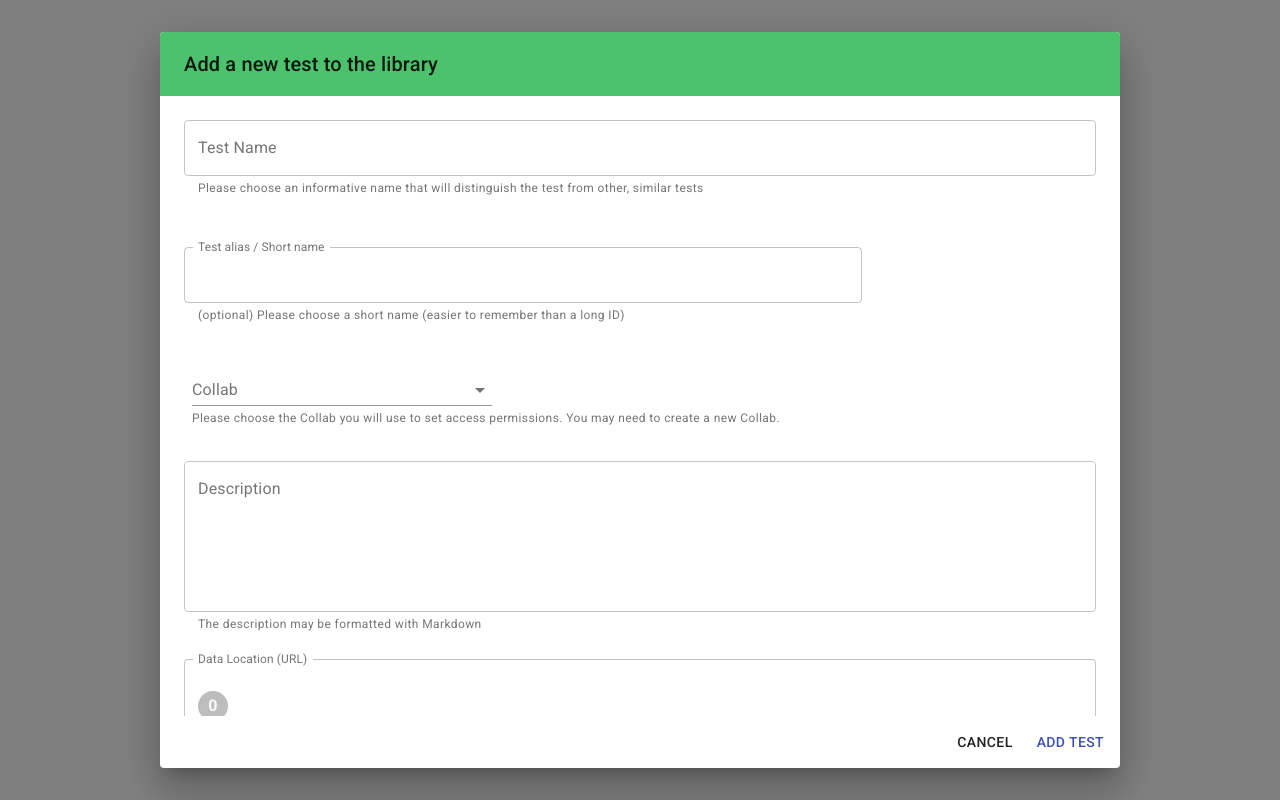
Test: TestAddForm › handleSubmit › shows error when alias is not unique
The image size is (1280, 800).
In the field named "name" next to "Test Name": (640, 148) top-left (184, 120), bottom-right (1096, 176), type "Test"
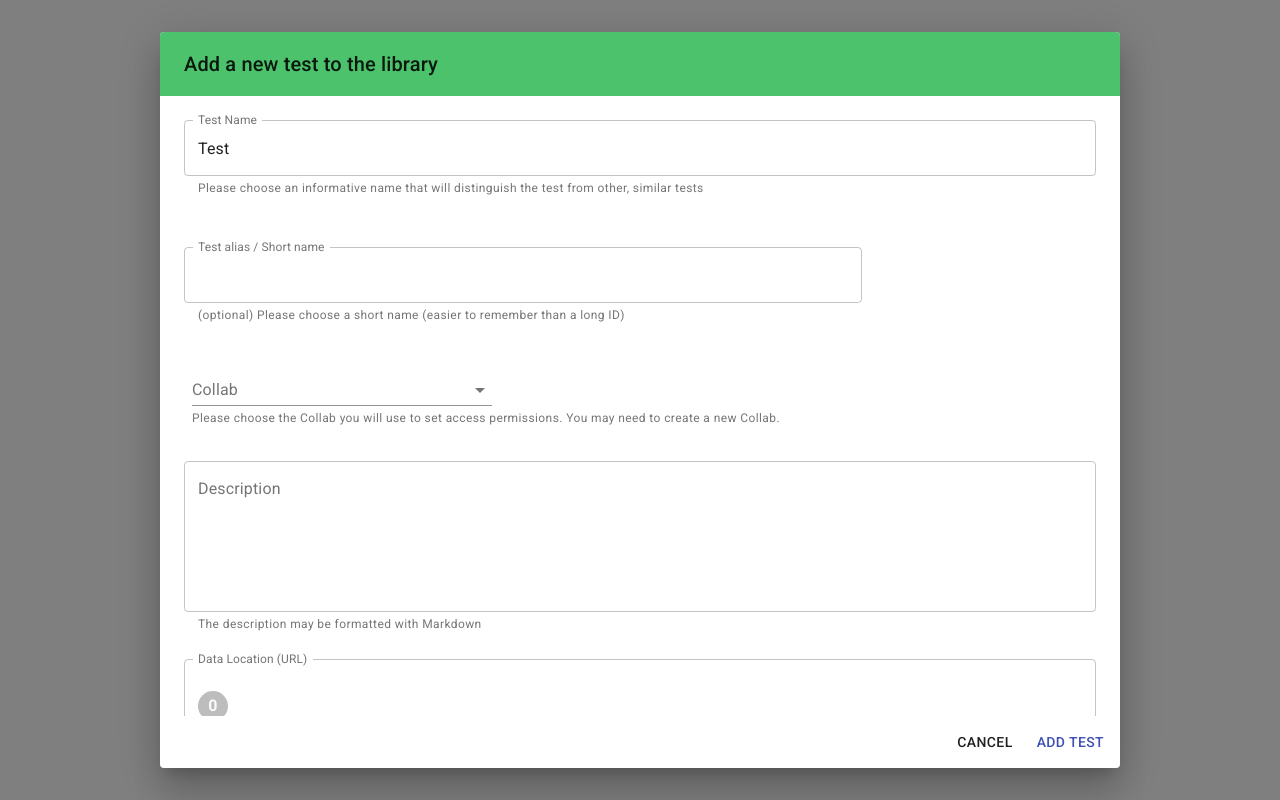
In the field named "alias" next to "Test alias / Short name": (546, 275) top-left (230, 247), bottom-right (862, 303), type "taken-alias"
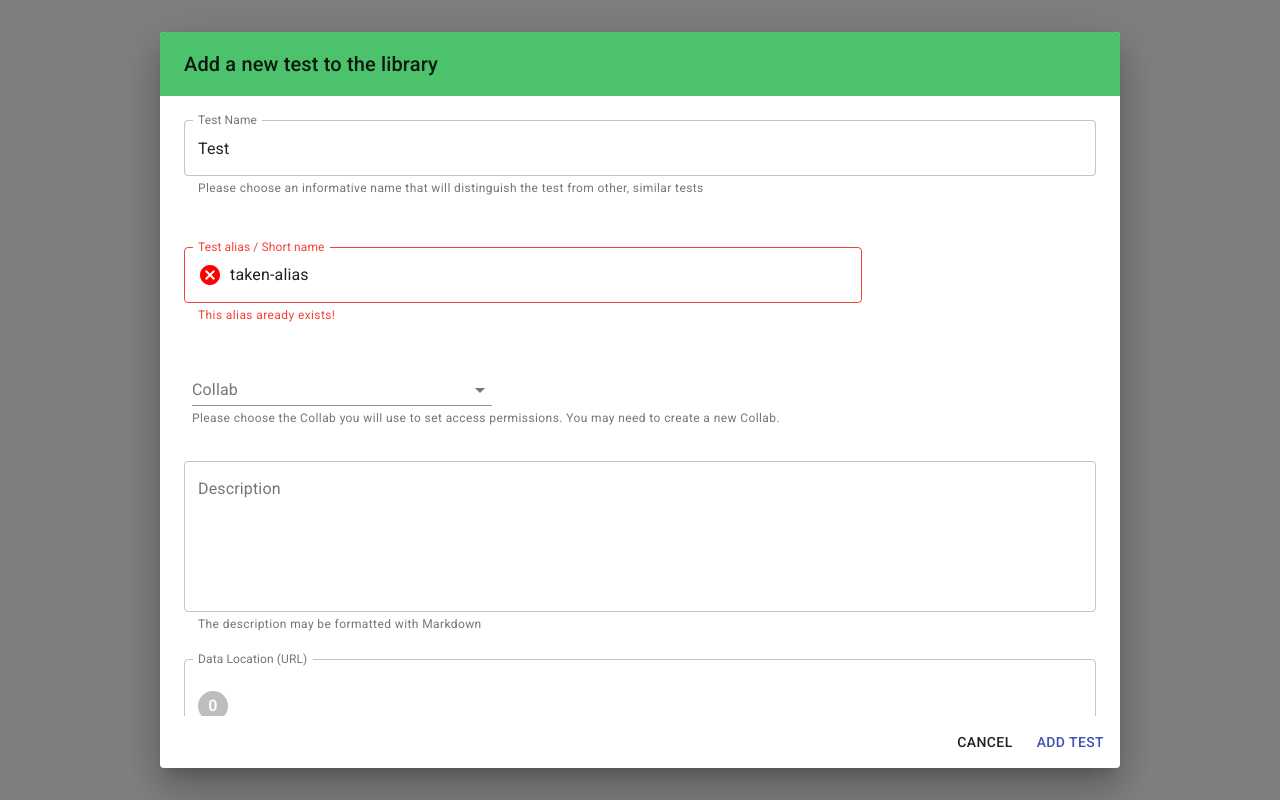
Click the button "Add Test": (1070, 742) top-left (1029, 724), bottom-right (1112, 760)
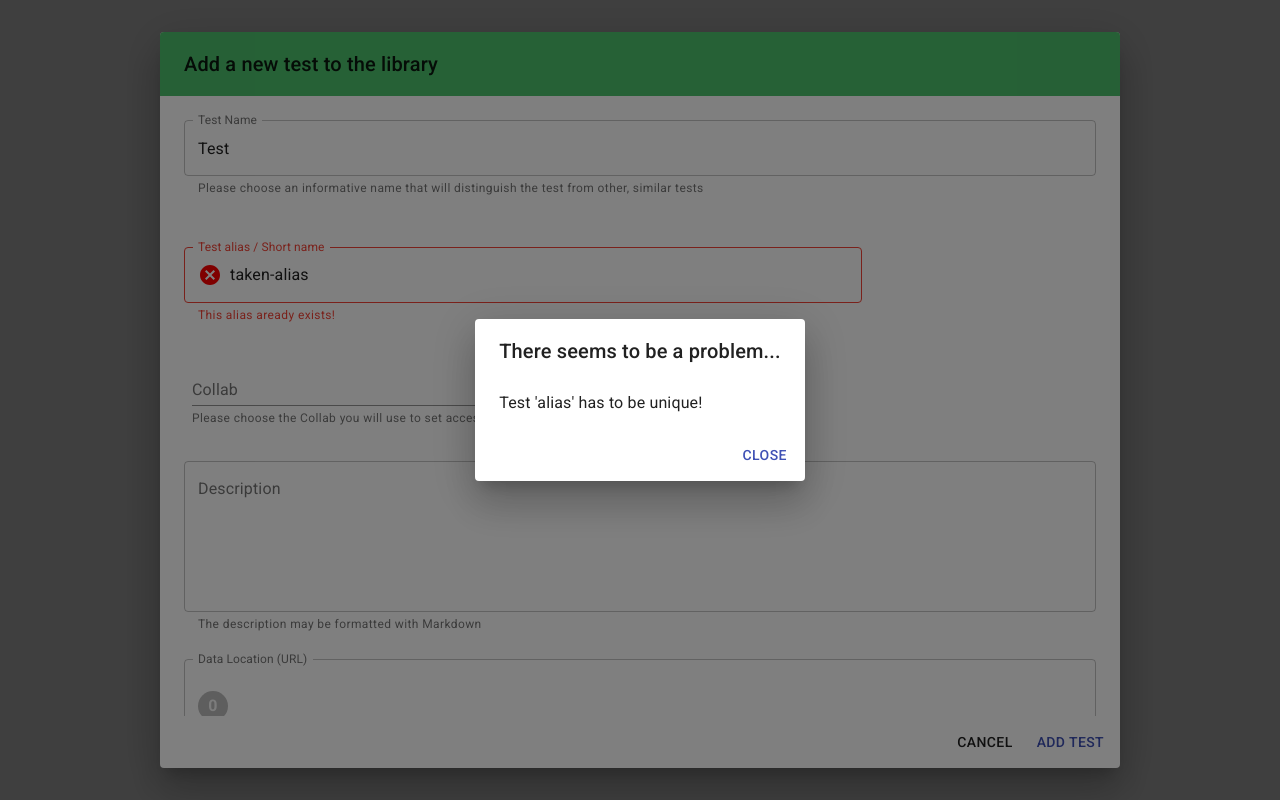
Expected: the text "Test 'alias' has to be unique!" is shown, top-left (499, 393), bottom-right (703, 412)
